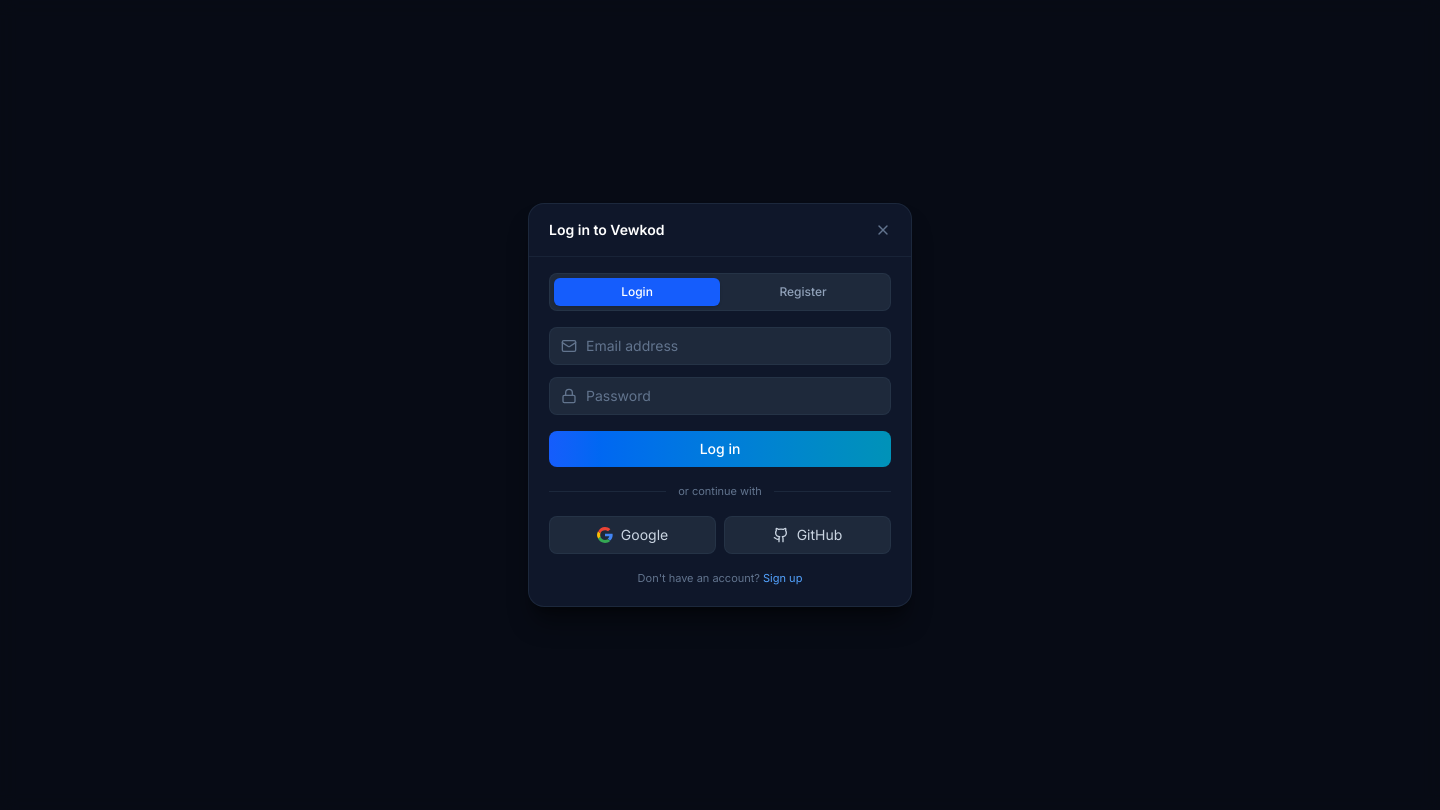
Test case: AuthModal › blocks registration when the passwords don't match
Click the button "Register" at (803, 292), box [720,278,886,306]
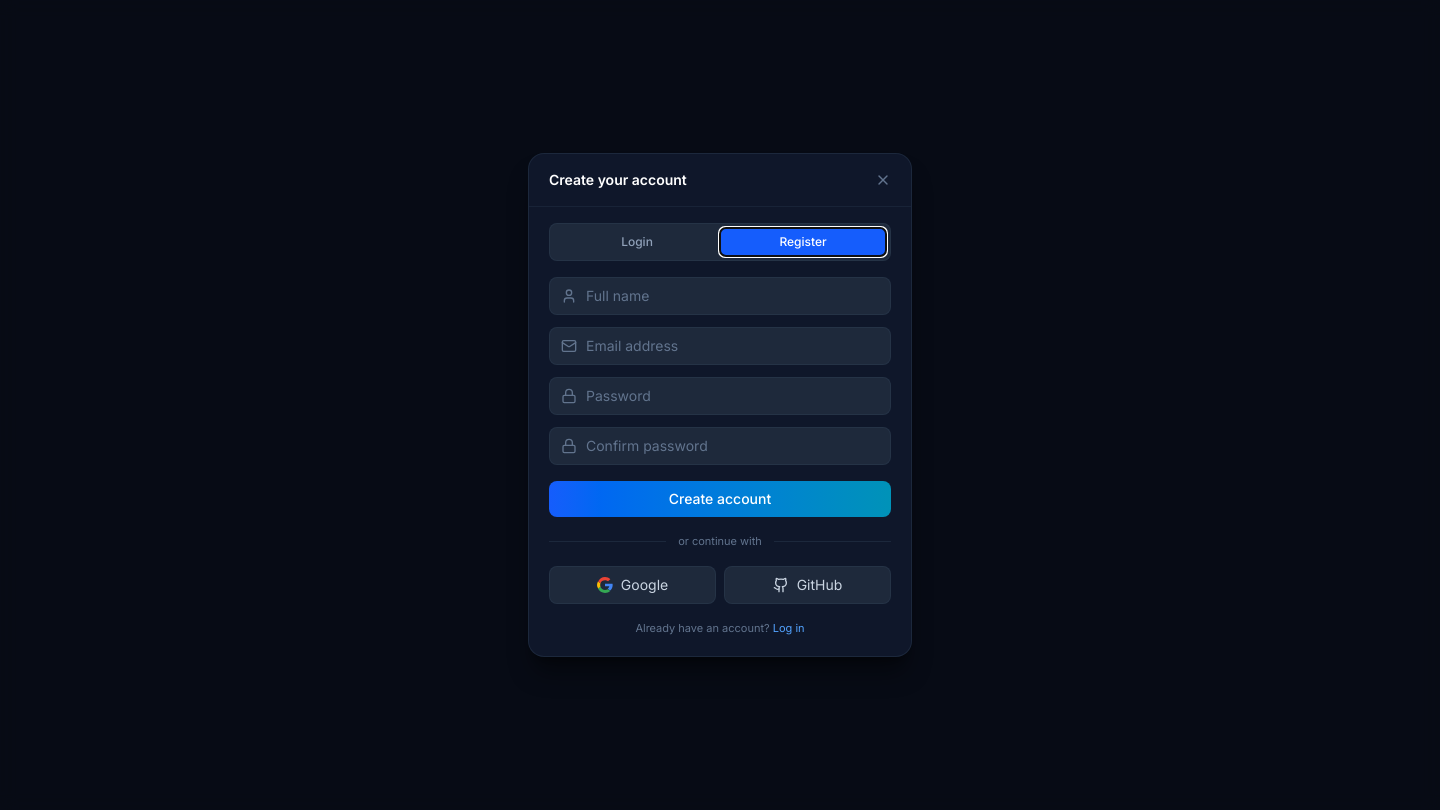
Type "Ada Lovelace" into the field with placeholder "Full name" at (720, 296), box [549,277,891,315]
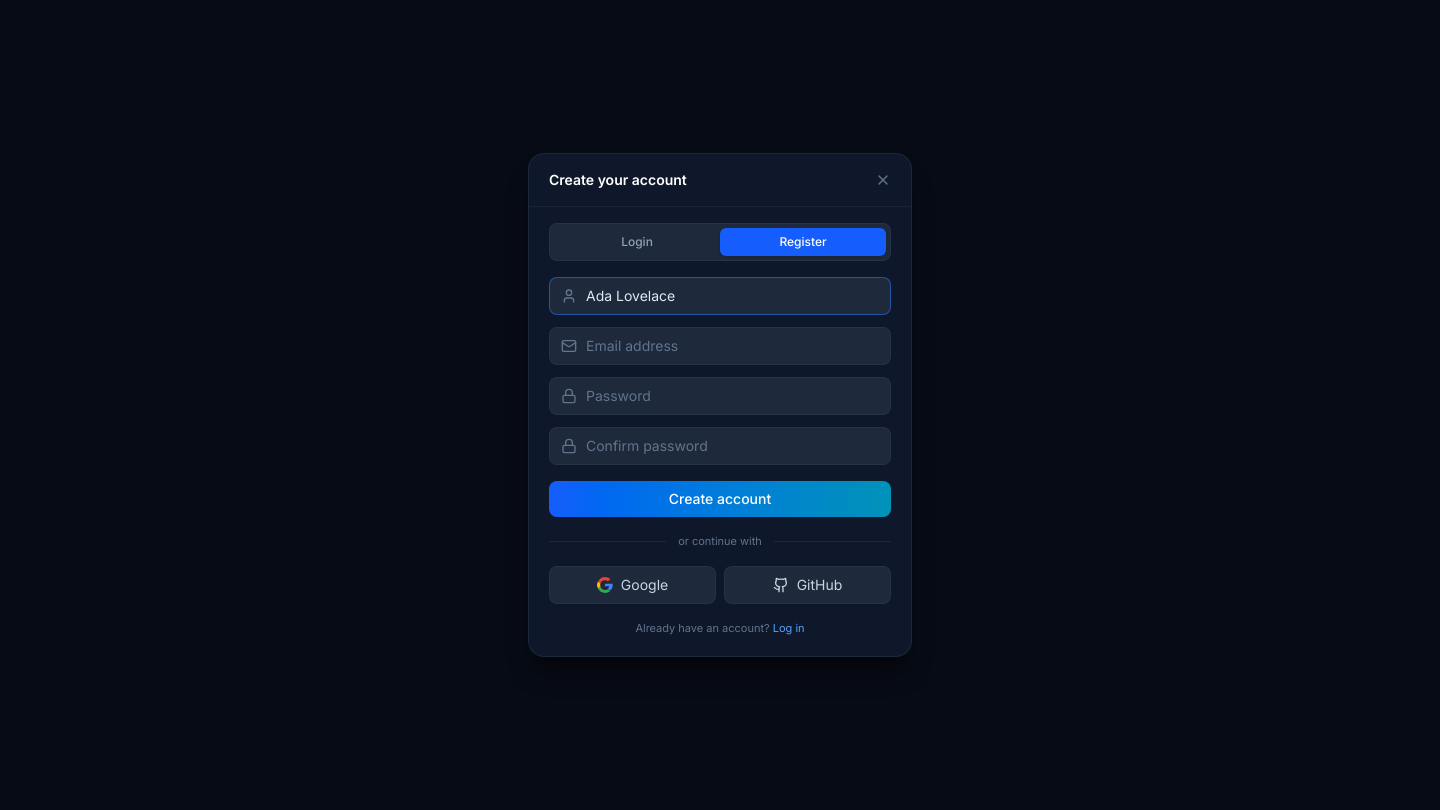
Type "ada@example.com" into the field with placeholder "Email address" at (720, 346), box [549,327,891,365]
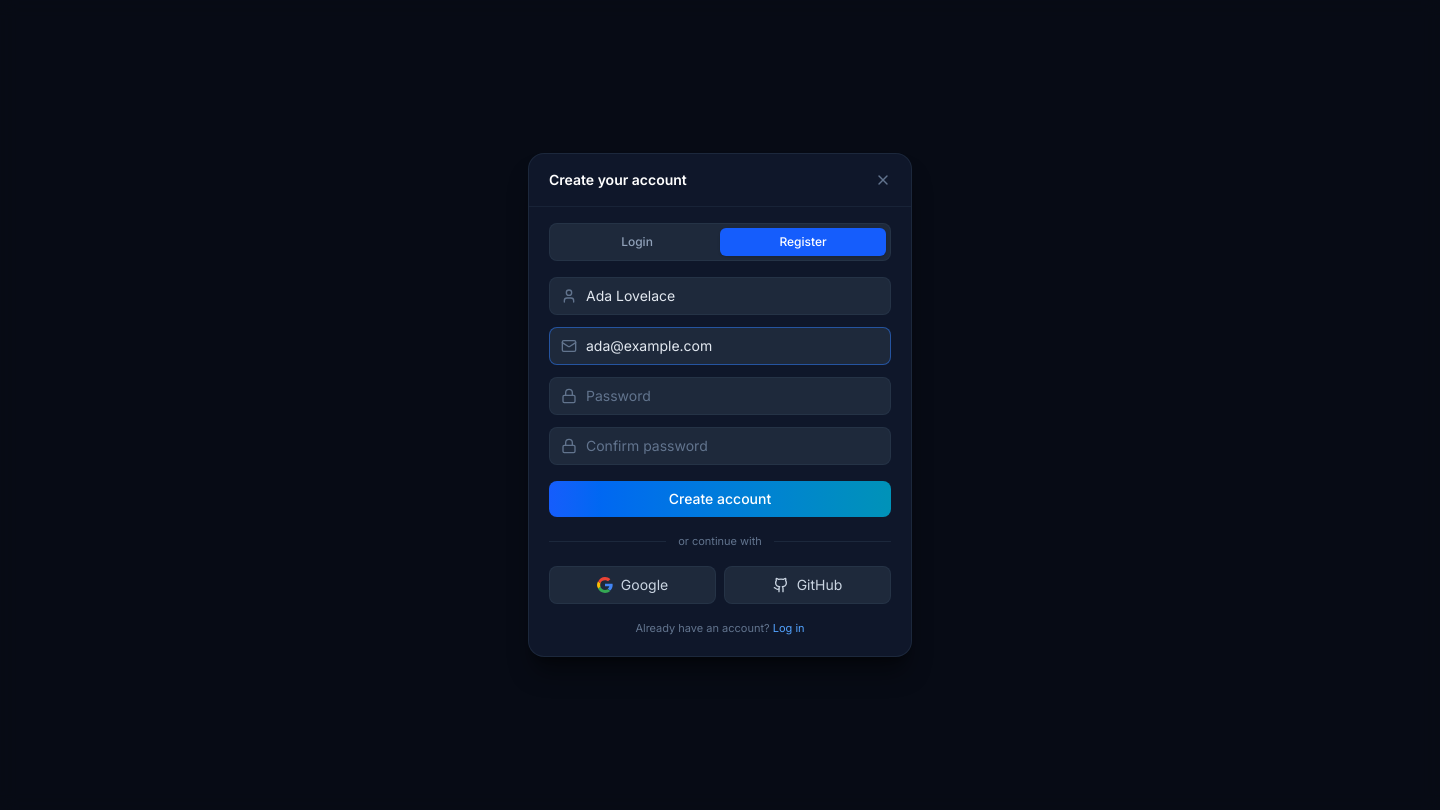
Type "password1" into the password field with placeholder "Password" at (720, 396), box [549,377,891,415]
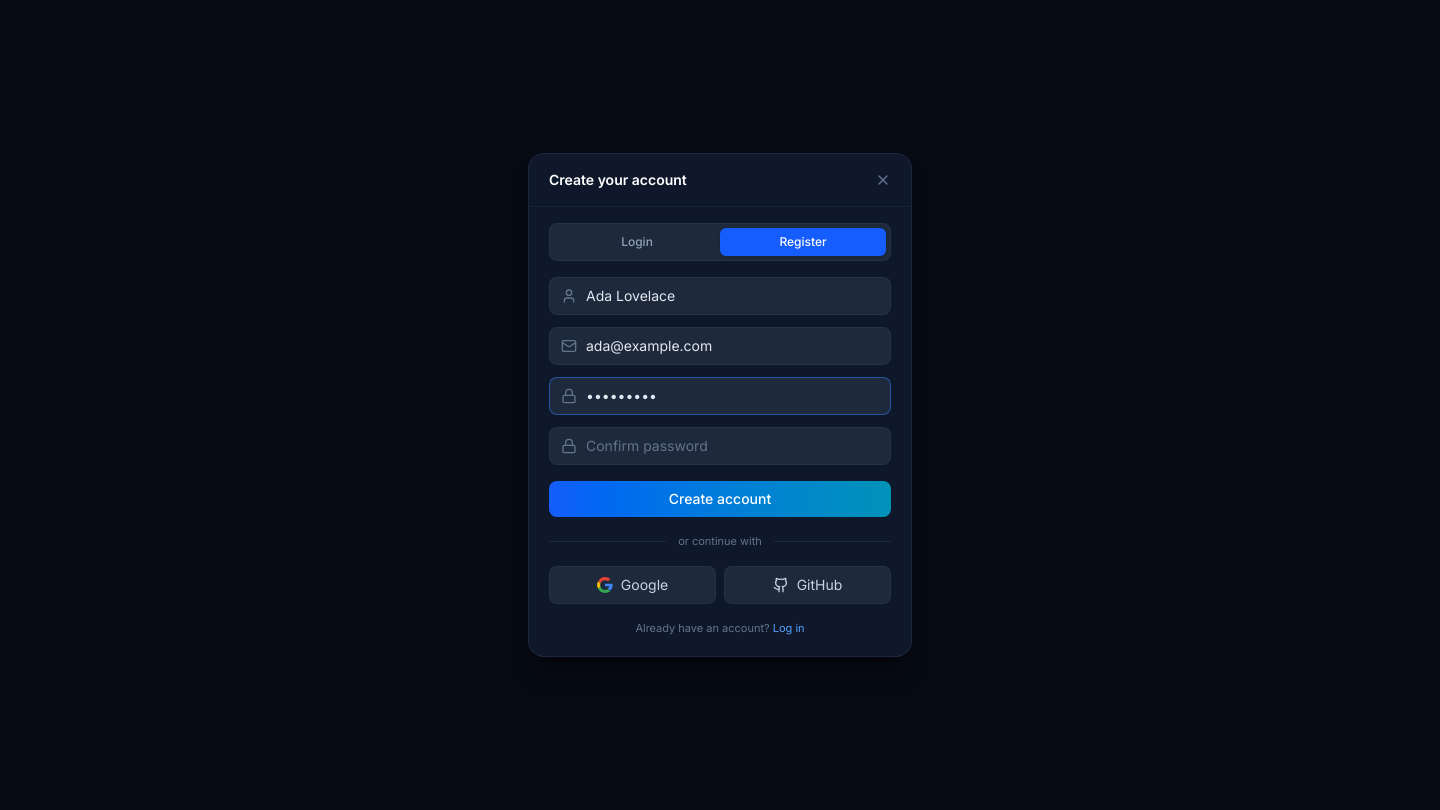
Type "password2" into the password field with placeholder "Confirm password" at (720, 446), box [549,427,891,465]
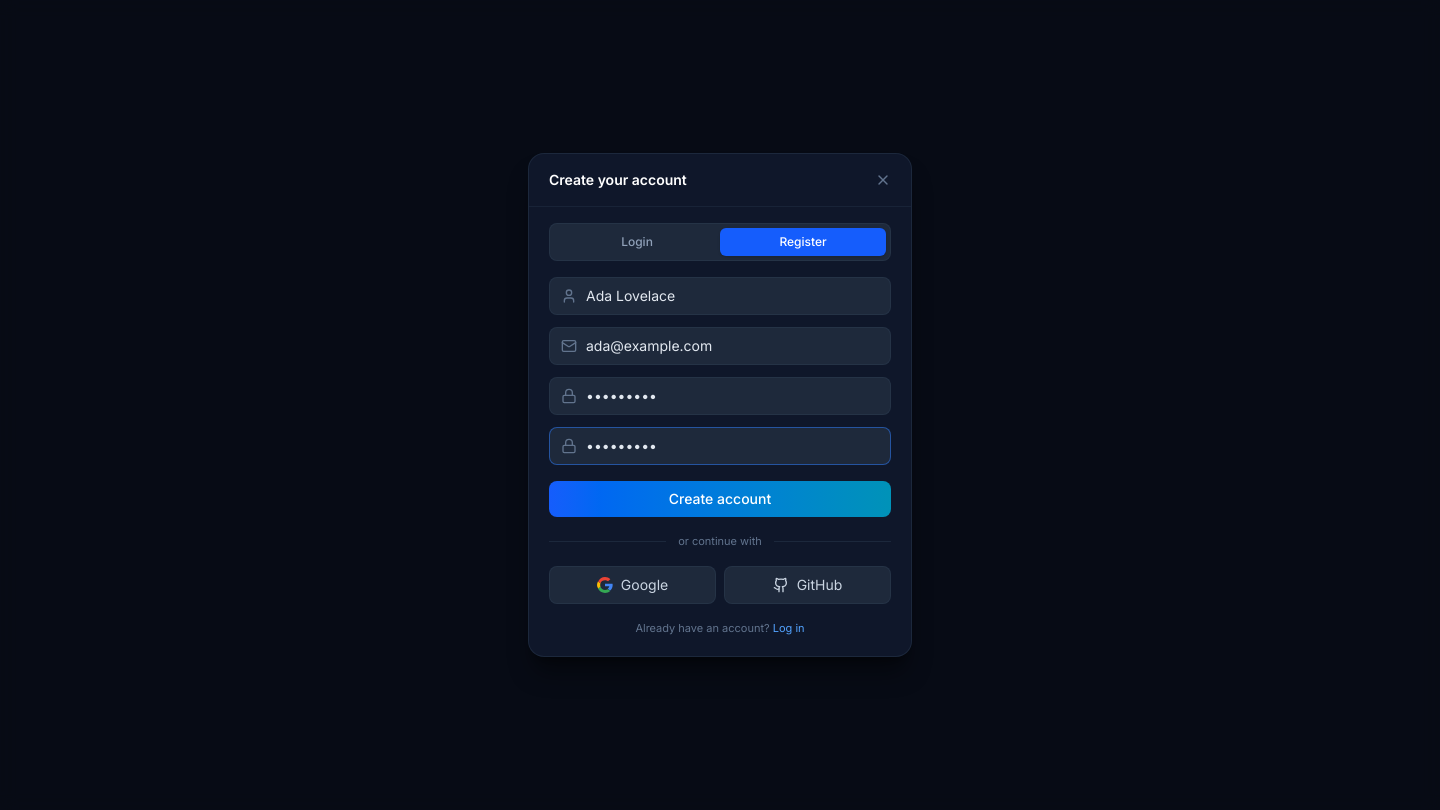
Click the button "Create account" at (720, 499), box [549,481,891,517]
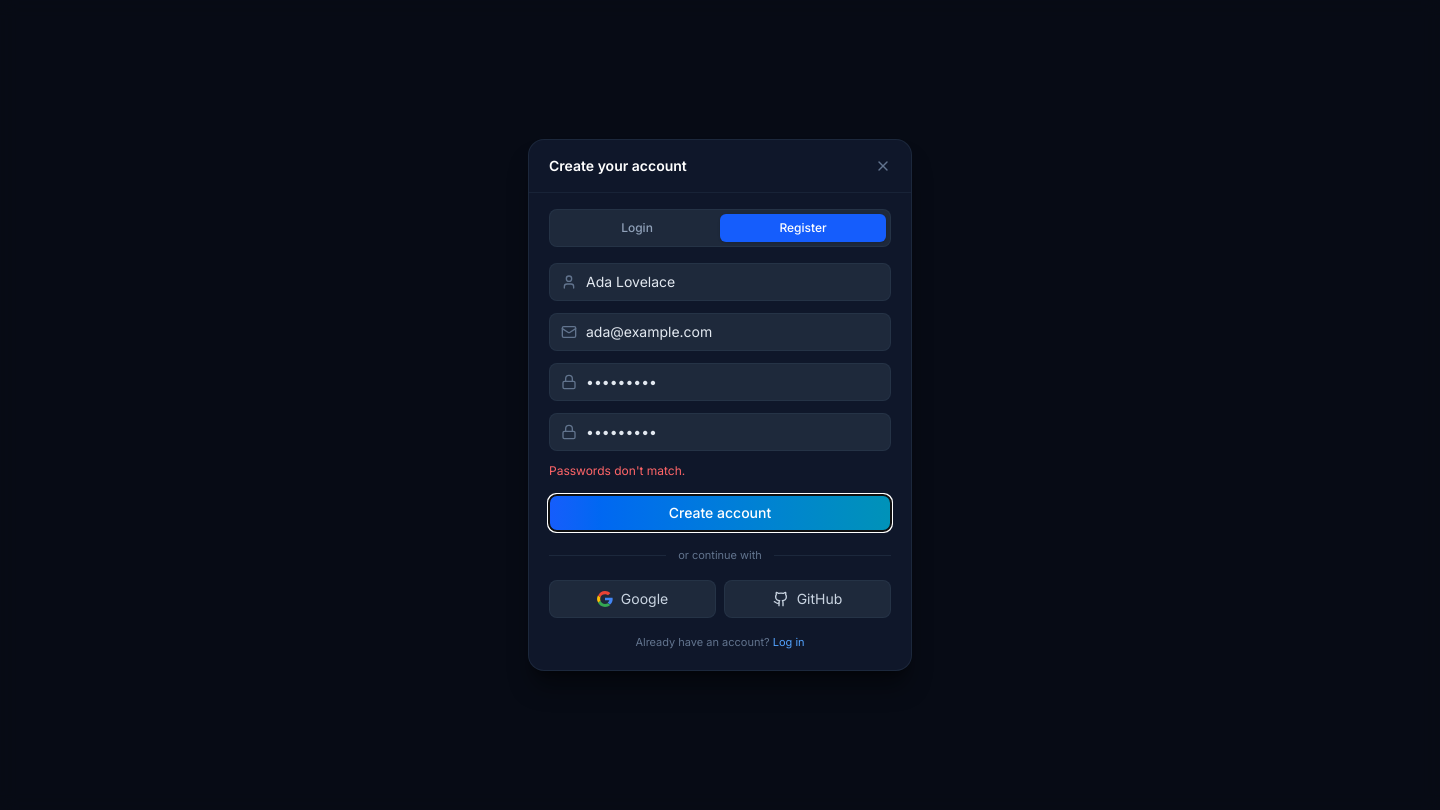
Check: the text "Passwords don't match." is shown, box [549,463,685,478]
